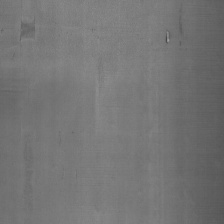inclusion: (17, 12, 38, 49), (162, 22, 175, 47)
